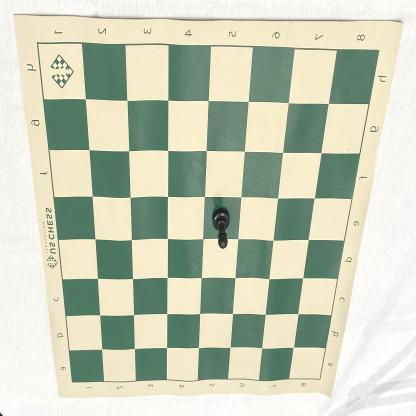black-pawn: (212, 207, 231, 249)
